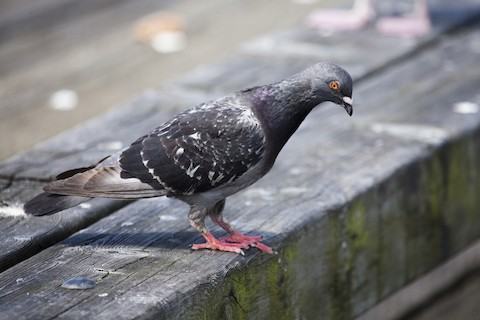pigeon: (23, 57, 356, 257)
